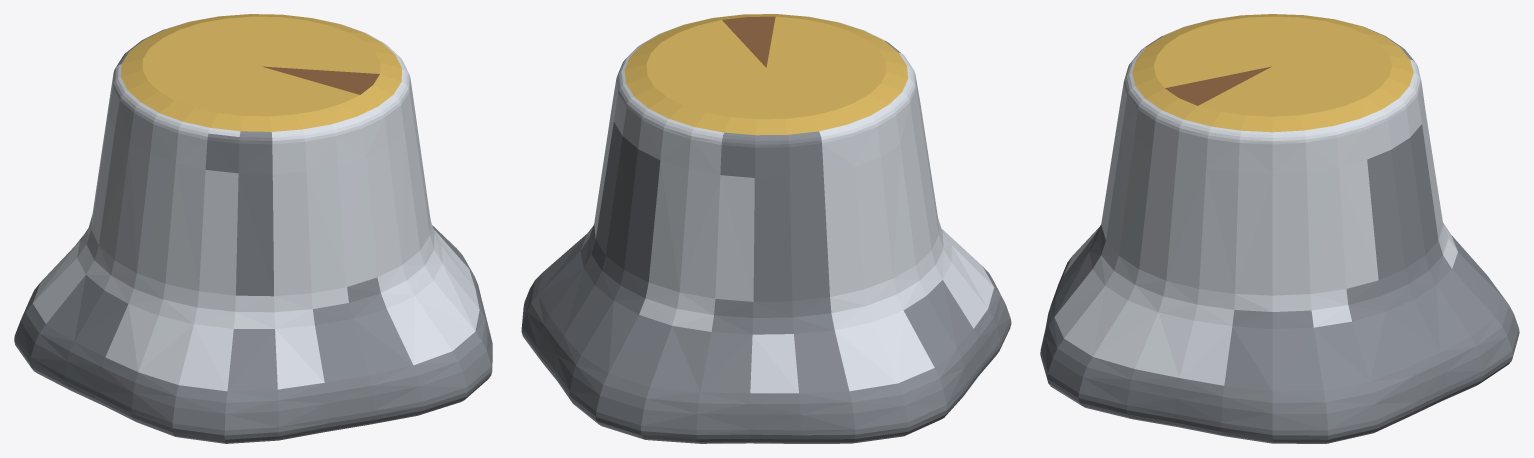
The model's file is TreeStump.obj.
3 renders of one model, left to right at view 1: azimuth 30°, elevation 25°; view 2: azimuth 150°, elevation 25°; view 3: azimuth 270°, elevation 25°, orthographic.
Size of the model in its own units: 2.01 by 1.3 by 2.01.
